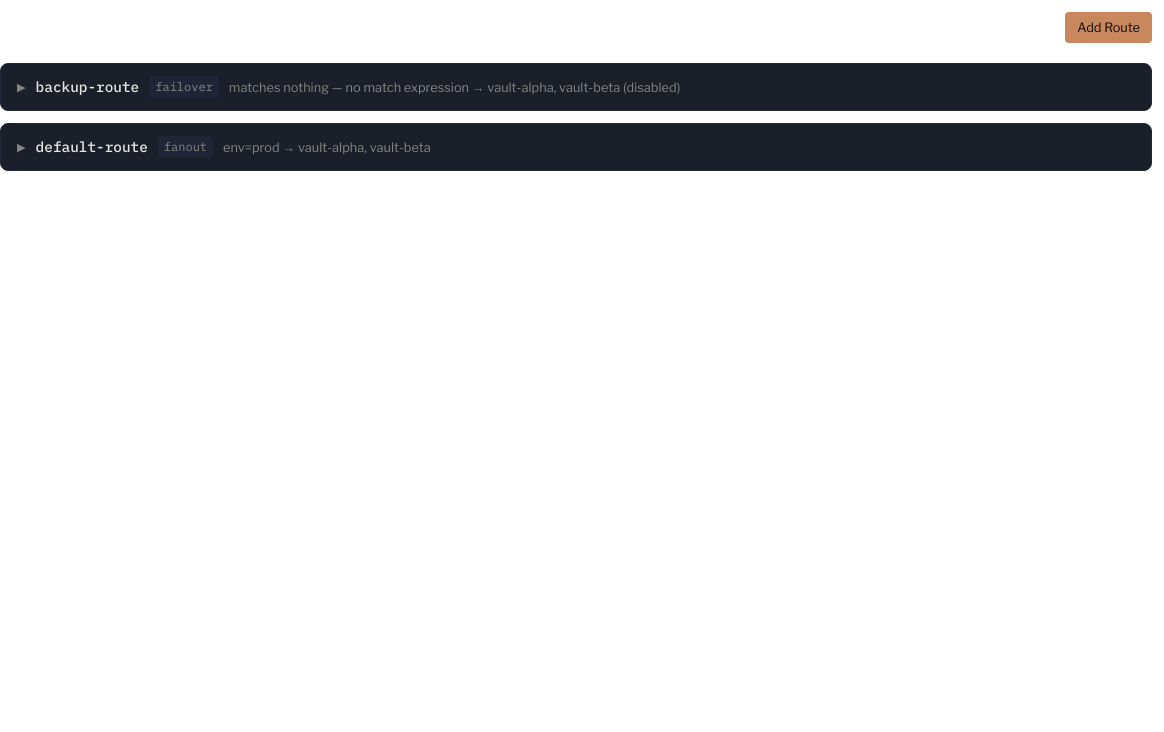
Test: RoutesSettings create gates › no destination disables Create with the reason, until one is picked
This screenshot has width=1164, height=732.
Click the button "Add Route": click(1109, 28) [1065,12,1152,43]
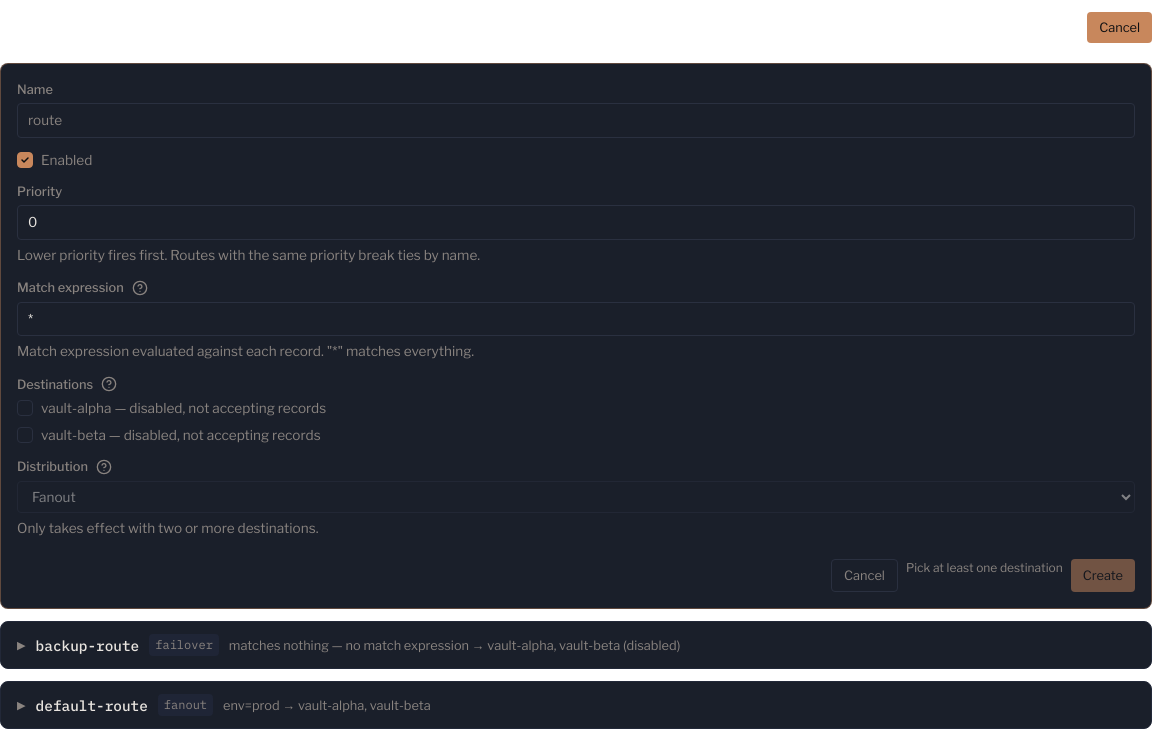
Now the text "Pick at least one destination" is shown, box [906,560,1063,575]
Now the button "Create" is disabled, box [1071,559,1135,592]
The destination label carries the vault's state after a dash.
Click the checkbox "vault-alpha — disabled, not accepting records": click(172, 408) [17,400,326,416]
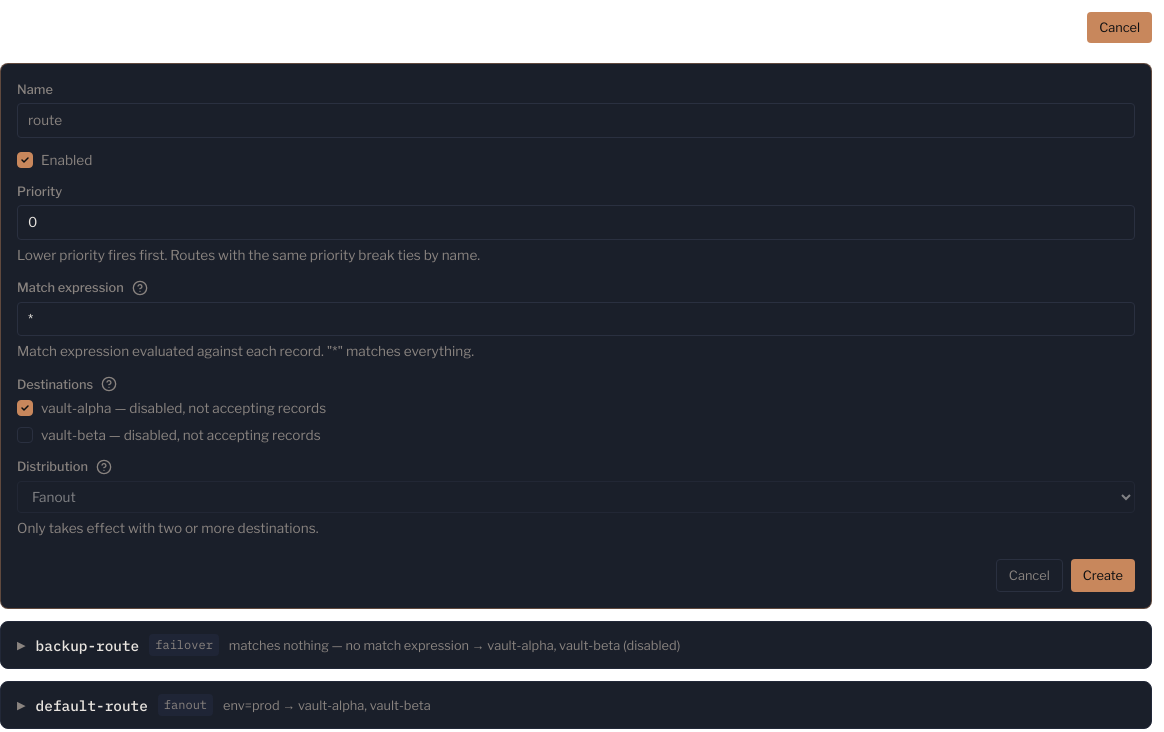
Now the text "Pick at least one destination" is gone
Now the button "Create" is enabled, box [1071,559,1135,592]
